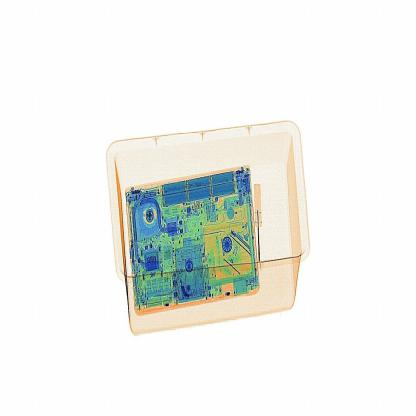wrench: (251, 177, 270, 268)
